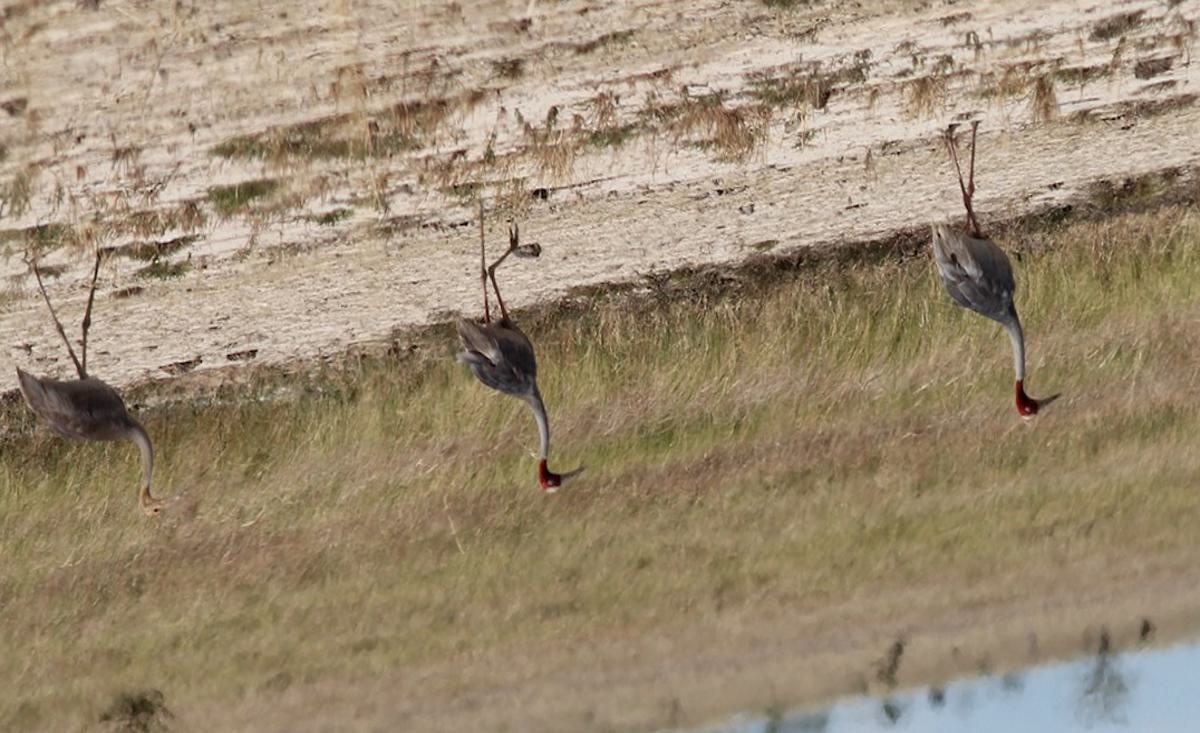crane: (1, 208, 190, 532), (440, 183, 598, 518), (919, 120, 1054, 423)
